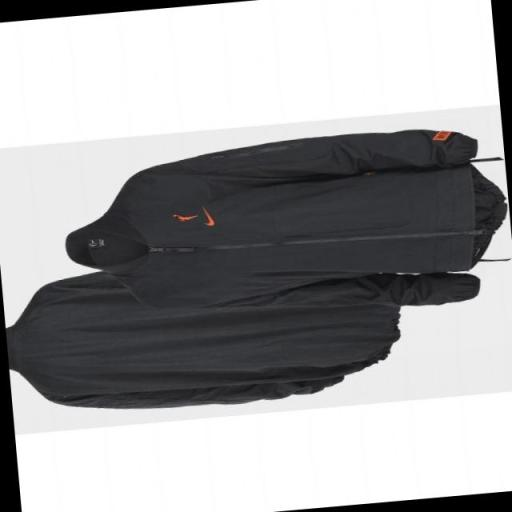Nike: (200, 204, 216, 226)
